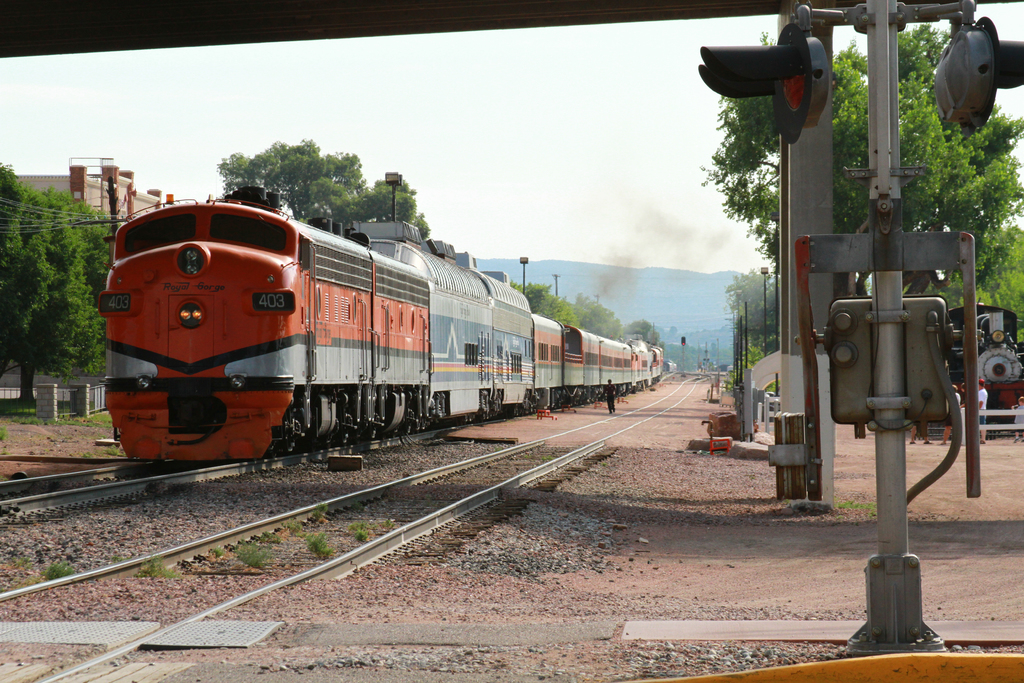train: (104, 183, 668, 460)
